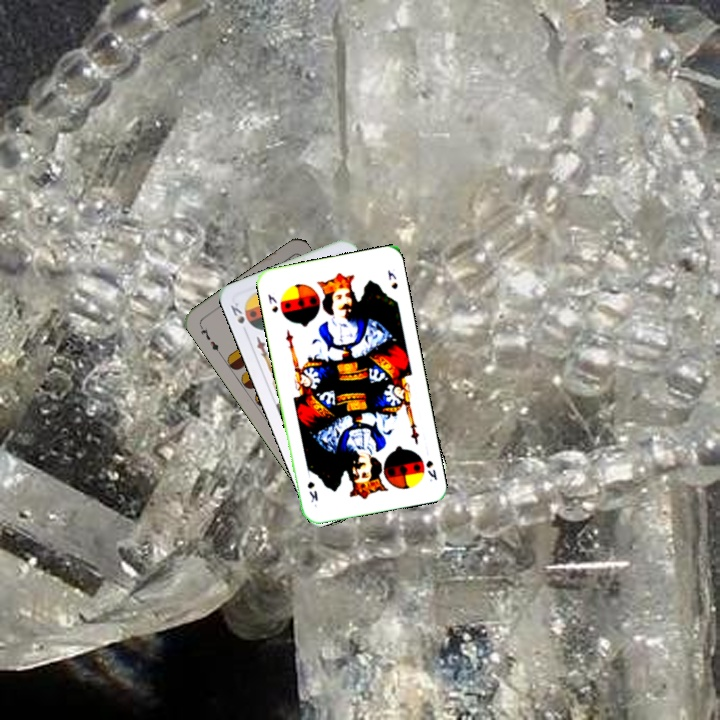E7: (195, 321, 223, 357)
SK: (226, 298, 254, 329), (422, 456, 440, 484), (264, 290, 281, 315)
